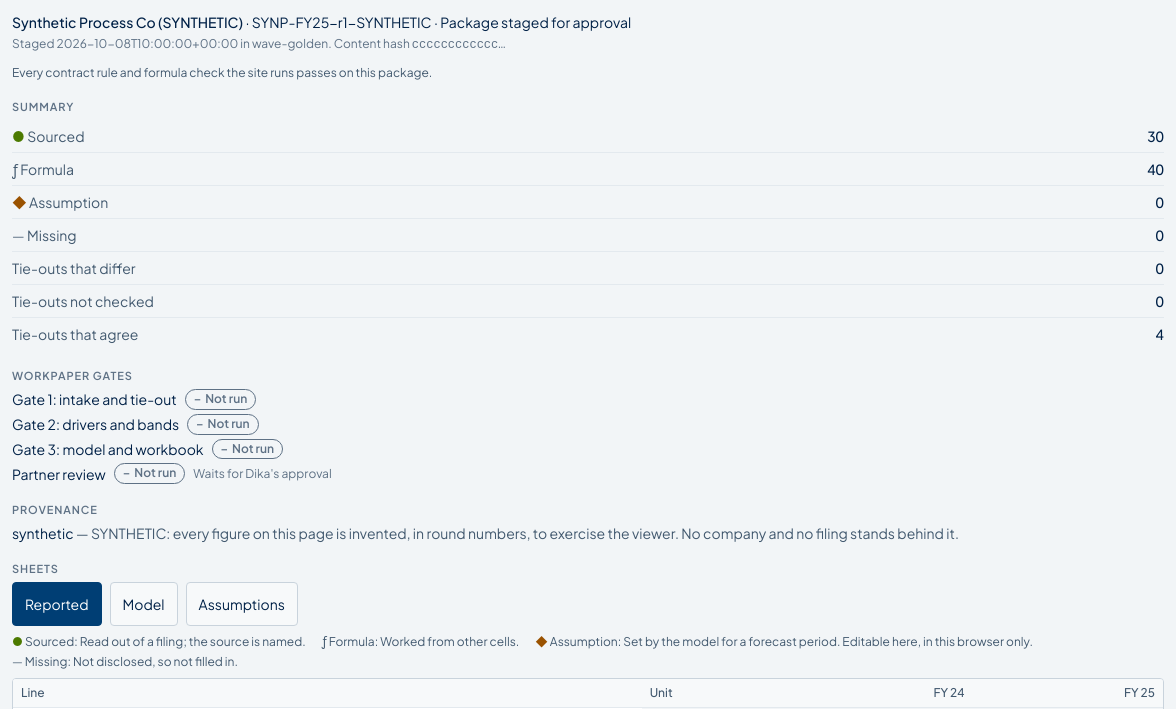
Scenario: FsrePackagePreview › offers the sheets as tabs, draws the grid with a glyph per cell kind, and the legend with the word
This screenshot has width=1176, height=709.
Step 1. Click the button "Model" → (144, 604), box left=110, top=582, right=178, bottom=626
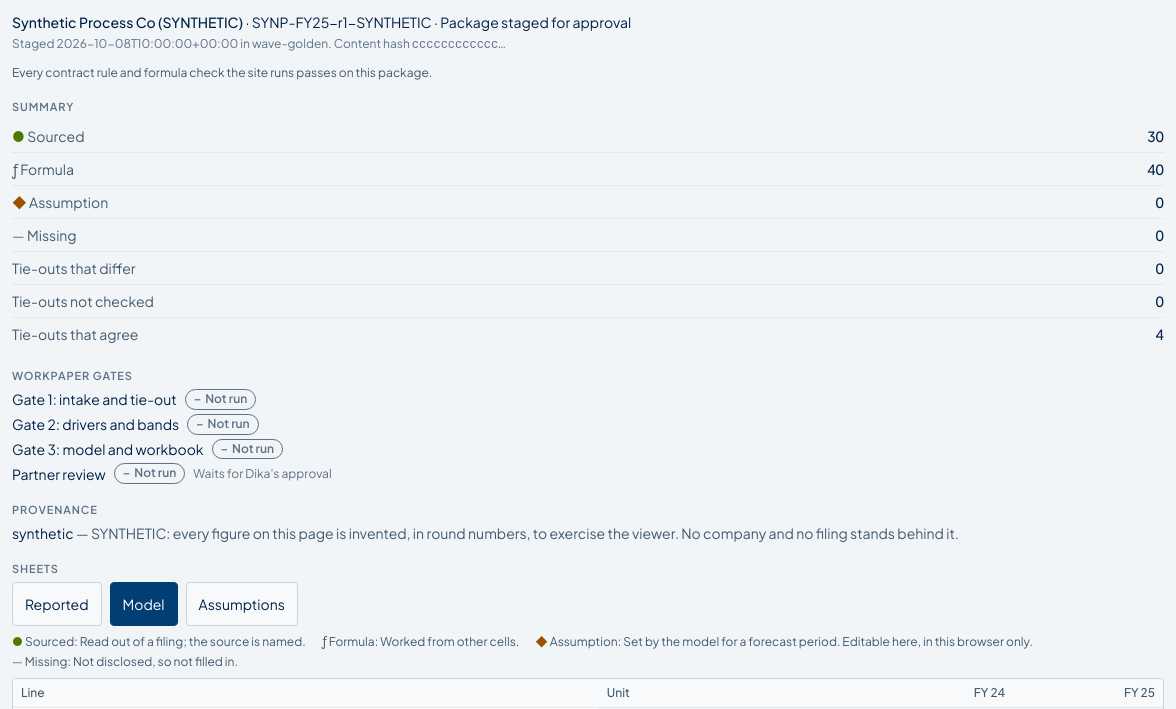
Step 2. Click the button "Assumptions" → (242, 604), box left=186, top=582, right=298, bottom=626
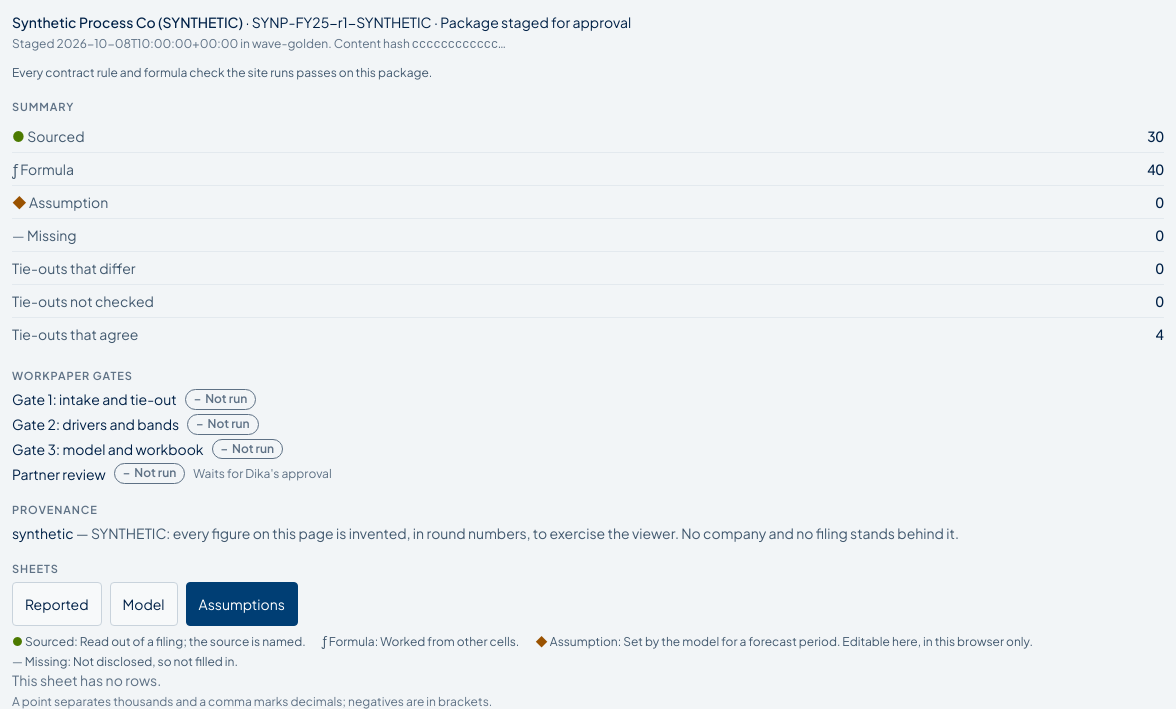
Check: the text "This sheet has no rows." is shown, box left=12, top=671, right=161, bottom=689
